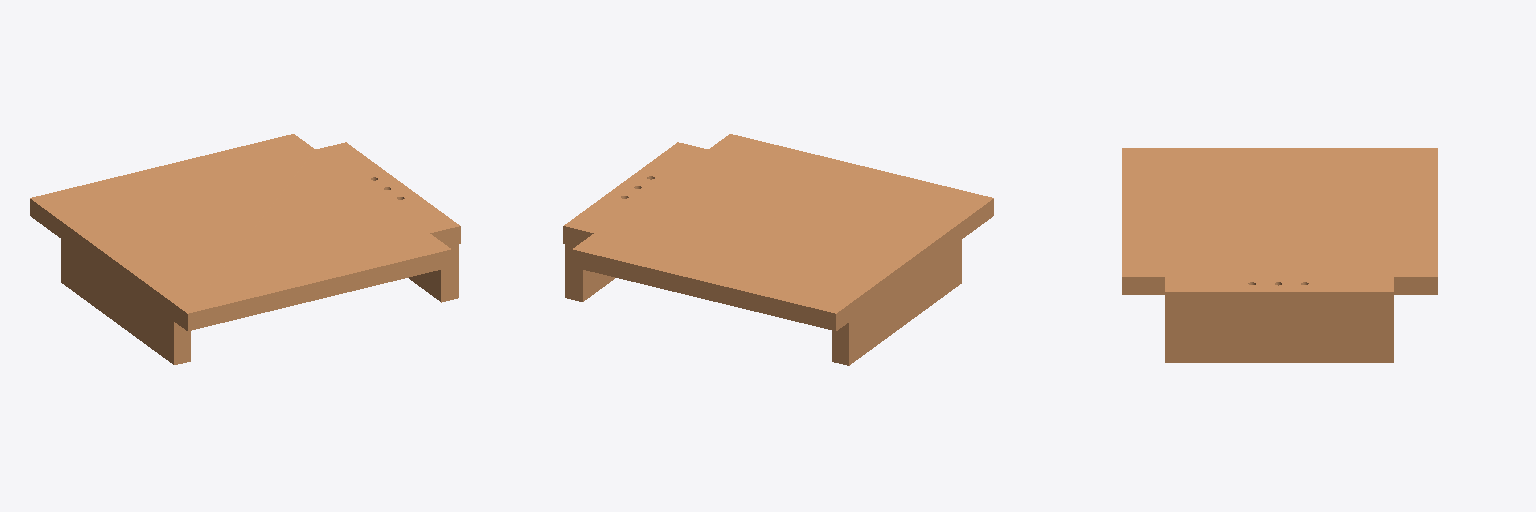
File: sitsCol.obj
3 renders of one model, left to right at view 1: azimuth 30°, elevation 25°; view 2: azimuth 150°, elevation 25°; view 3: azimuth 270°, elevation 25°, orthographic.
Parts seen in each view (by area): view 1: sits; view 2: sits; view 3: sits.
Boxes of the visible parts, x1=… form: sits: x1=30, y1=134, x2=460, y2=364; sits: x1=563, y1=134, x2=993, y2=365; sits: x1=1122, y1=148, x2=1437, y2=362.
Size of the model in its own units: 261 by 61.01 by 243.